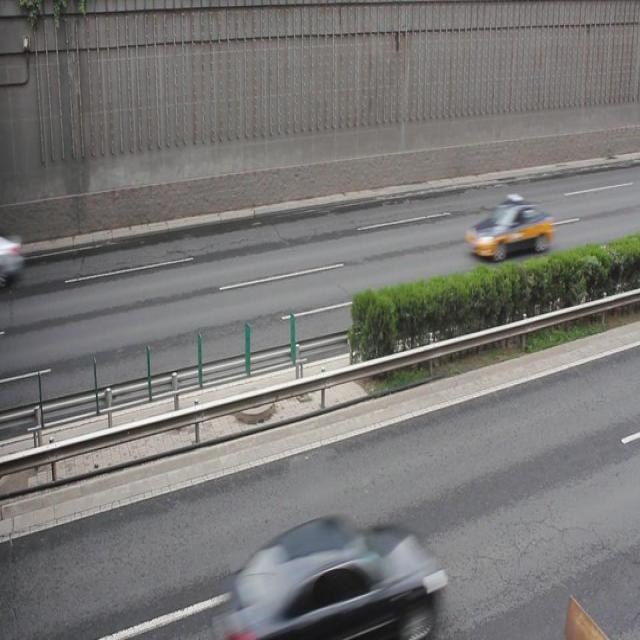car: (228, 513, 442, 640), (464, 197, 553, 258)
